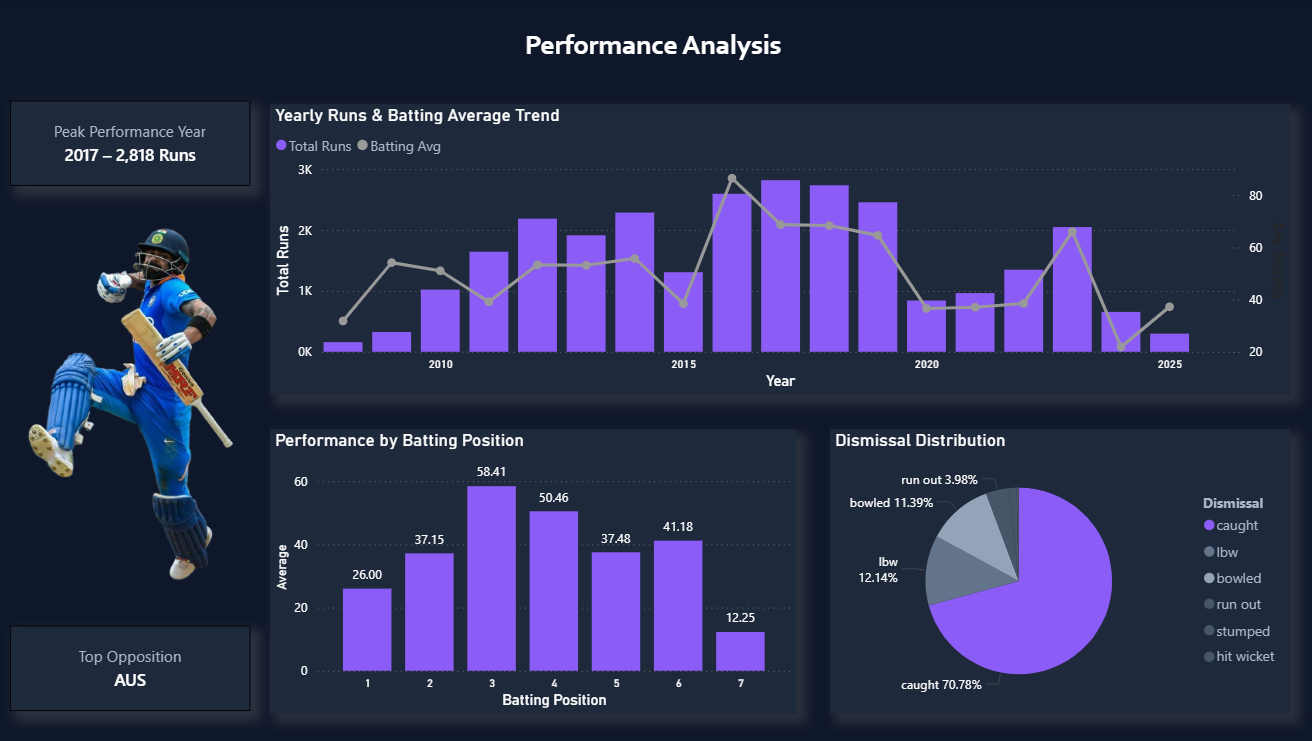

Layout of this report page (visuals, bound fields, positions):
{"tool":"powerbi","page":{"name":"Performance Deep Dive","canvas":[1280,720],"ordinal":1},"visuals":[{"type":"lineClusteredColumnComboChart","title":"Yearly Runs & Batting Average Trend","fields":{"Category":["Dim_Calendar.Year"],"Y":["Key Measures.Total Runs"],"Y2":["Key Measures.Batting Avg"]},"box":[31.4,118.2,1027.9,257],"z":0},{"type":"areaChart","title":"Performance by Batting Position","fields":{"Category":["Fact_KohliMatches.BattingPosition"],"Y":["Key Measures.Batting Avg"]},"box":[31.4,416.2,521.2,273.9],"z":1000},{"type":"pieChart","title":"Dismissal Distribution","fields":{"Category":["Fact_KohliMatches.Dismissal"],"Y":["Key Measures.Times Out"]},"box":[574.3,416.2,424.7,273.9],"z":2000},{"type":"cardVisual","fields":{"Data":["Key Measures.Peak Year"]},"box":[1029.1,513.9,213.5,78.4],"z":3000},{"type":"cardVisual","fields":{"Data":["Key Measures.Top Opposition"]},"box":[1029.1,416.2,213.5,78.4],"z":4000},{"type":"image","box":[1059.3,0,220.8,513.9],"z":5000},{"type":"textbox","box":[0,23.7,1280,43.1],"z":6000},{"type":"cardVisual","fields":{"Data":["Key Measures.Highest Score"]},"box":[1029.1,611.7,213.5,78.4],"z":7000},{"type":"textbox","box":[0,67.6,1280,43.4],"z":8000}]}

Visuals, with their boxes in screenshot pixels (x1, y1, x2, y2), scaled from the page's 1280x720 canvas onto the 1312x741 screenshot:
"Yearly Runs & Batting Average Trend" lineClusteredColumnComboChart: bbox=(32, 122, 1086, 386)
"Performance by Batting Position" areaChart: bbox=(32, 428, 566, 710)
"Dismissal Distribution" pieChart: bbox=(589, 428, 1024, 710)
cardVisual - Key Measures.Peak Year: bbox=(1055, 529, 1274, 610)
cardVisual - Key Measures.Top Opposition: bbox=(1055, 428, 1274, 509)
image: bbox=(1086, 0, 1311, 529)
textbox: bbox=(0, 24, 1311, 69)
cardVisual - Key Measures.Highest Score: bbox=(1055, 630, 1274, 710)
textbox: bbox=(0, 70, 1311, 114)
